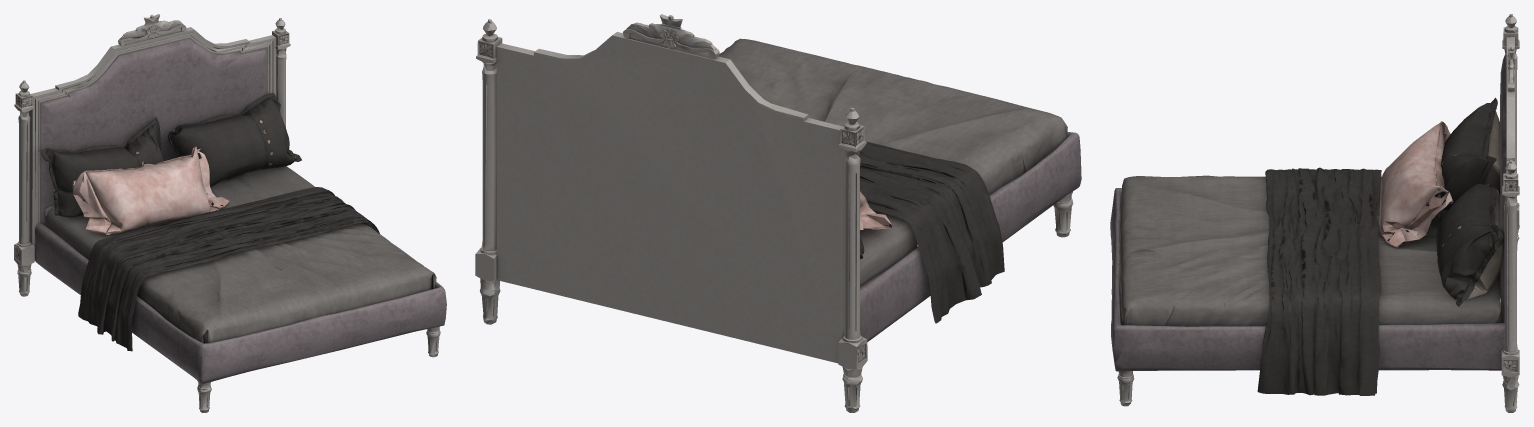
Rendered from raw_model.obj.
3 views of the same model, side by side, from view 1: azimuth 30°, elevation 25°; view 2: azimuth 150°, elevation 25°; view 3: azimuth 270°, elevation 25° (orthographic). The views are drawn at different scales.
Parts seen in each view (by area): view 1: solid_009, solid_003, solid_002, solid_005, solid_001; view 2: solid_005, solid_002, solid_003, solid_009, solid_001; view 3: solid_003, solid_002, solid_009, solid_001, solid_005, solid_006.
Part boxes in pixels (x1=…): solid_009: x1=35, y1=38, x2=446, y2=383; solid_003: x1=39, y1=93, x2=379, y2=351; solid_002: x1=44, y1=166, x2=436, y2=343; solid_005: x1=14, y1=14, x2=440, y2=412; solid_001: x1=72, y1=146, x2=229, y2=235; solid_005: x1=475, y1=14, x2=1073, y2=412; solid_002: x1=718, y1=38, x2=1067, y2=285; solid_003: x1=859, y1=141, x2=1004, y2=323; solid_009: x1=860, y1=132, x2=1081, y2=341; solid_001: x1=860, y1=191, x2=891, y2=230; solid_003: x1=1257, y1=97, x2=1504, y2=395; solid_002: x1=1119, y1=175, x2=1503, y2=326; solid_009: x1=1110, y1=51, x2=1506, y2=371; solid_001: x1=1379, y1=121, x2=1453, y2=247; solid_005: x1=1117, y1=14, x2=1519, y2=412; solid_006: x1=1466, y1=111, x2=1502, y2=299.
Size of the model in its own units: 1.77 by 1.53 by 1.95.
1 material, 1 textured.
